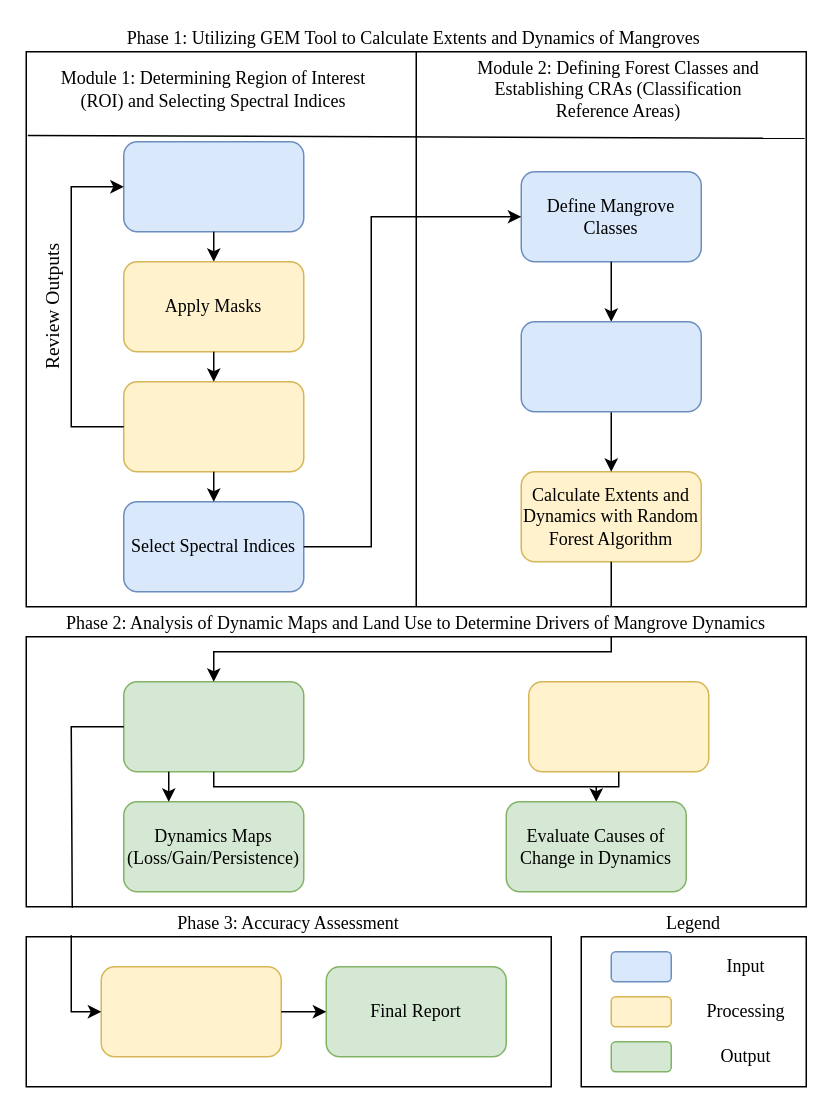
This 833x1113 diagram has some shape labels left out. The shapes that lost their labels are listed below. From the top down, each one's centre as x and y in pixels, then its label:
point 213,186: Establish ROI
point 610,366: Determine CRAs
point 213,426: Run GEM Tool
point 213,726: Classified Maps
point 618,726: Land Cover Assessment
point 190,1011: Accuracy Assessment
